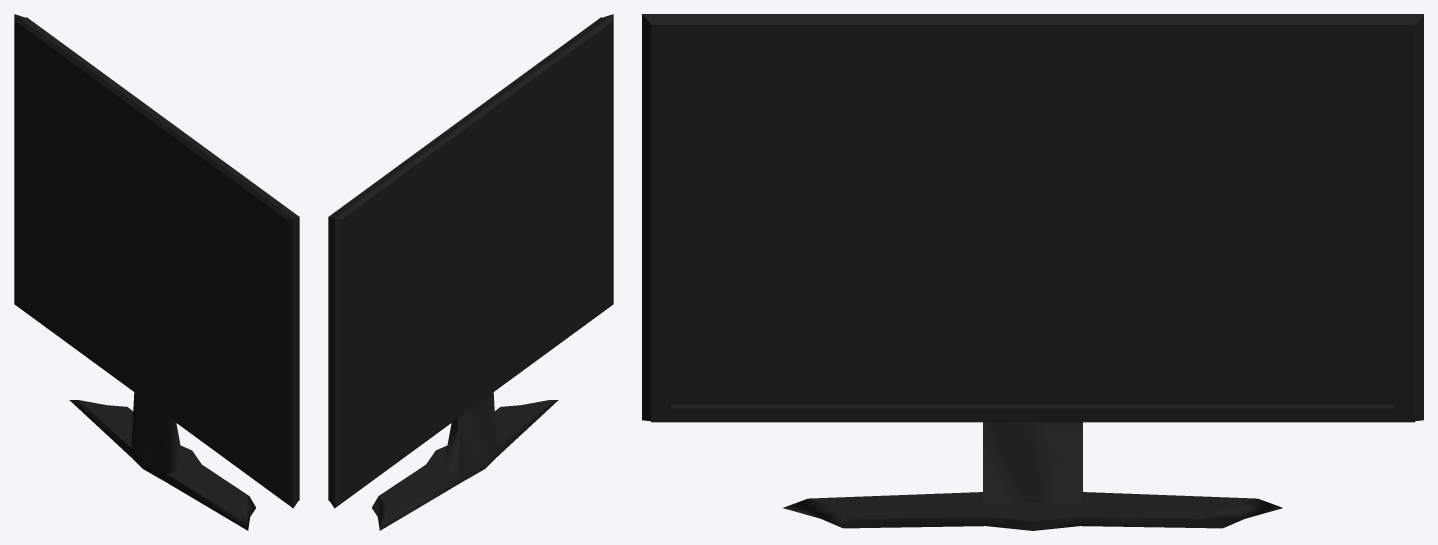
File: scene_hacker_monitor_01.fbx
3 views of the same model, side by side, from view 1: azimuth 30°, elevation 25°; view 2: azimuth 150°, elevation 25°; view 3: azimuth 270°, elevation 25° (orthographic). The views are drawn at different scales.
Visible parts, largest first — view 1: Cube.008; view 2: Cube.008; view 3: Cube.008.
Boxes of the visible parts, left/top/right/bottom form: Cube.008: left=14, top=14, right=299, bottom=530; Cube.008: left=328, top=14, right=613, bottom=530; Cube.008: left=642, top=14, right=1423, bottom=530.
Size of the model in its own units: 11.12 by 75.99 by 110.
